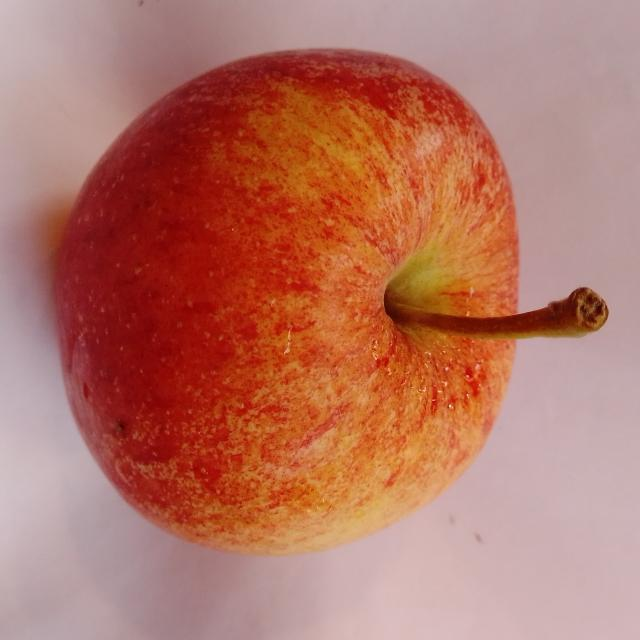Fresh Apple: (60, 55, 537, 563)
